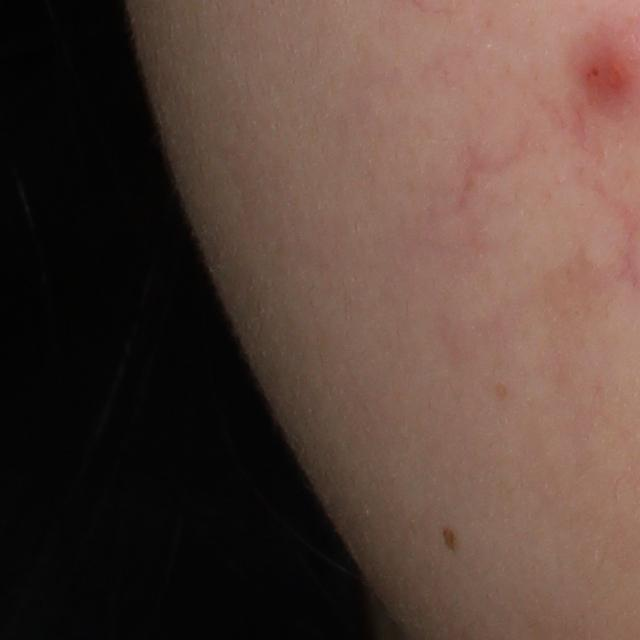nevus: (439, 525, 460, 550)
other: (432, 103, 545, 224)
papule: (592, 48, 639, 94)
